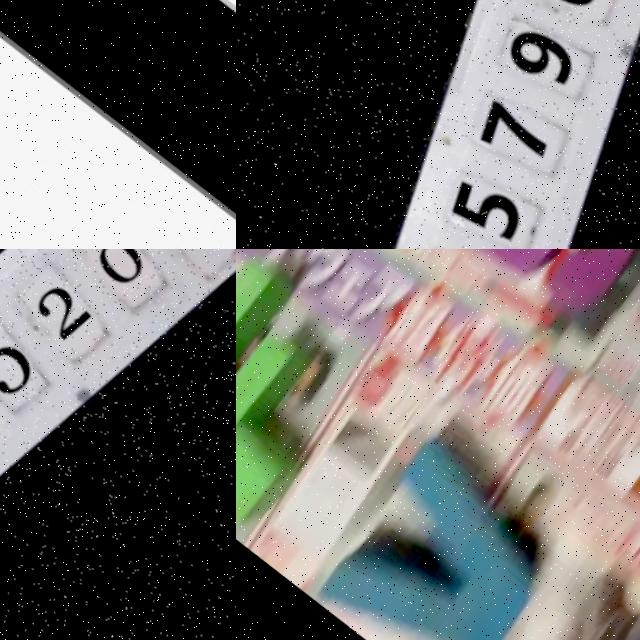0: (57, 249, 170, 309), (501, 0, 625, 38), (395, 217, 523, 249)
1: (0, 0, 236, 249)
2: (0, 249, 115, 361)
5: (417, 141, 546, 249), (0, 292, 54, 414)
7: (449, 64, 574, 192)
9: (472, 0, 600, 117)
F: (236, 249, 378, 531)
V: (311, 413, 573, 640)
